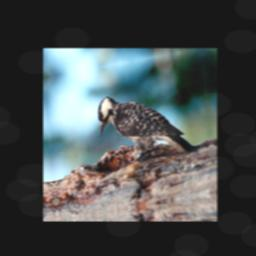Woodpecker: (92, 72, 201, 174)
